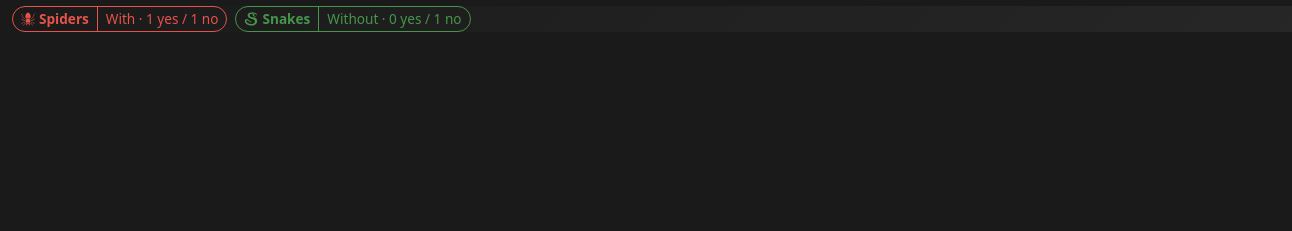
Test: MovieWarnings › corrige le classement à la main et affiche la mention
Click the button "With · 1 yes / 1 no". click: point(162, 19)
box: [97, 7, 226, 31]
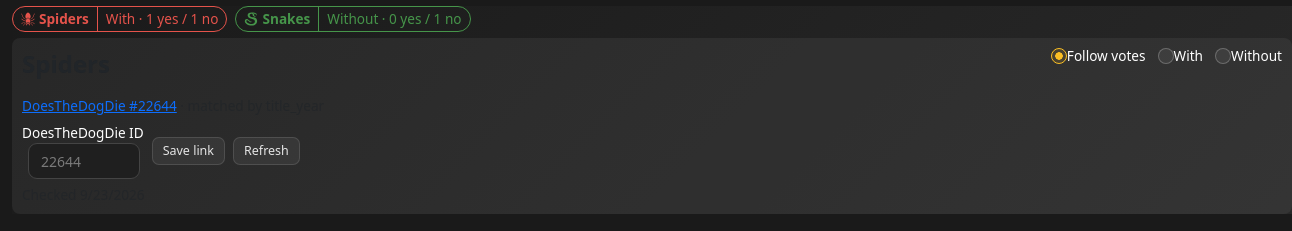
Click the radio button labelled "Without". click: point(1223, 56)
box: [1215, 48, 1231, 64]
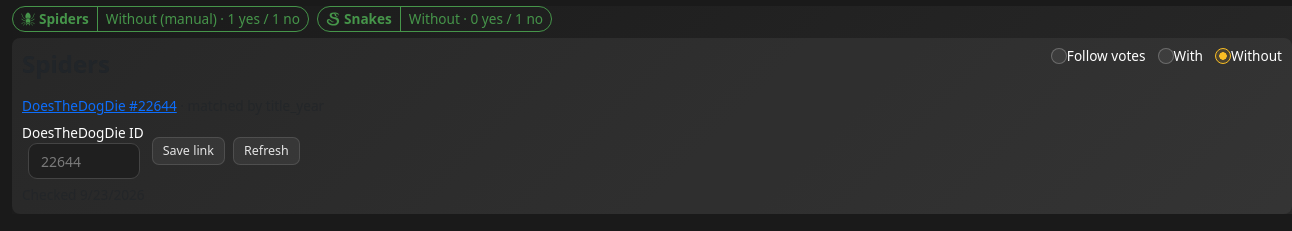
Expected: the button "Without (manual) · 1 yes / 1 no" is shown, [97, 7, 308, 31]
